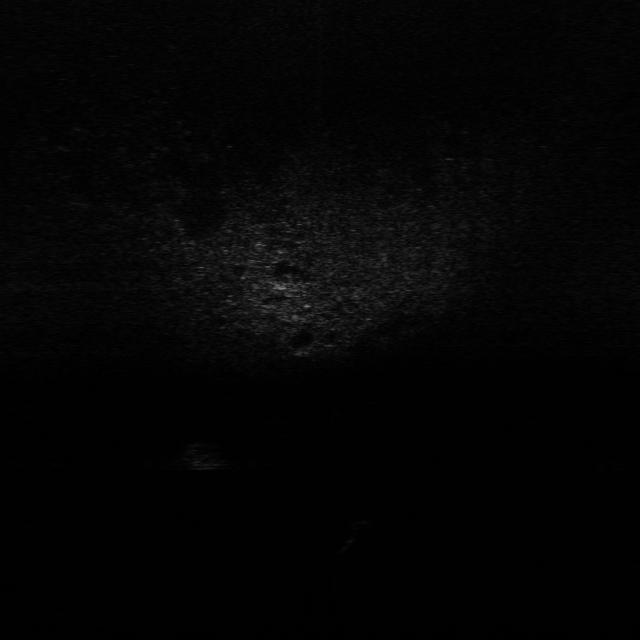circle cage: (173, 436, 226, 472)
cylinder: (344, 520, 370, 556)
